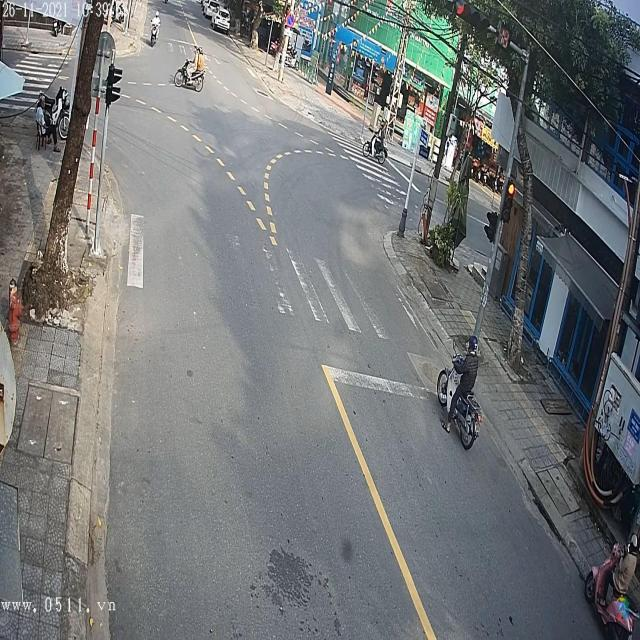motorcycle: (435, 351, 484, 451), (174, 54, 205, 94), (362, 122, 388, 165), (150, 21, 159, 48)
